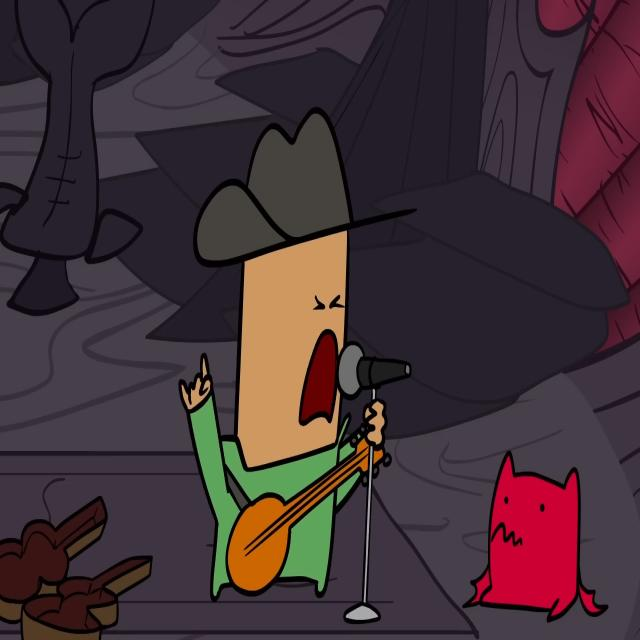Banjovi: (174, 98, 423, 607)
